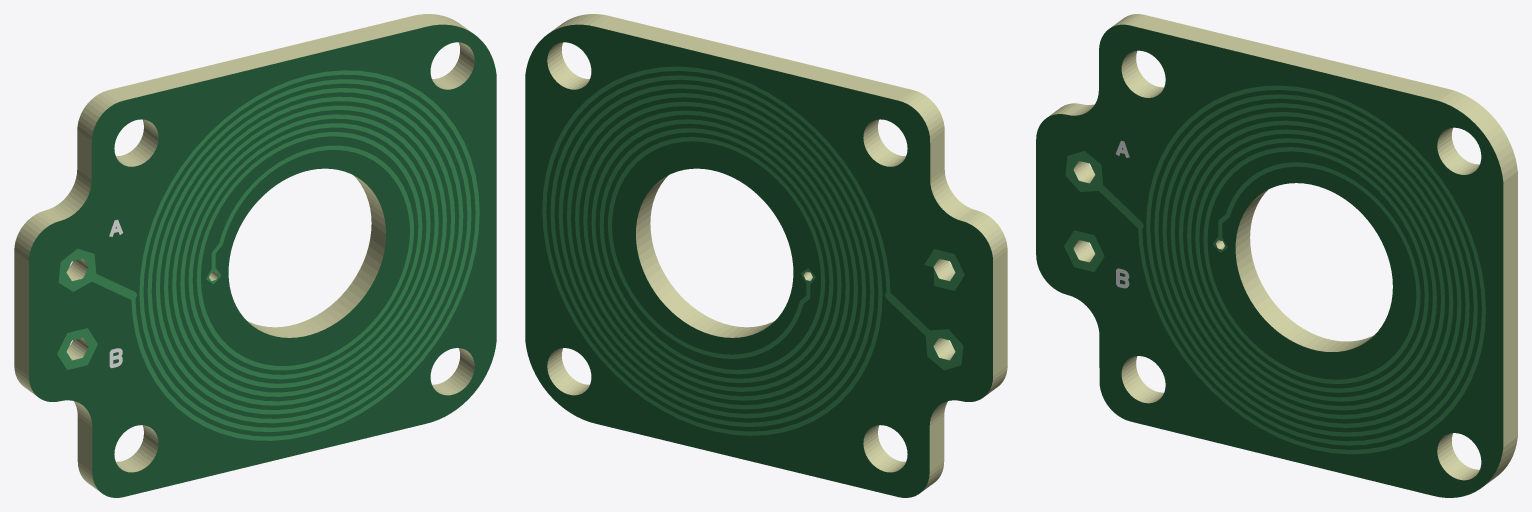
Rendered from coil.glb.
3 renders of one model, left to right at view 1: azimuth 30°, elevation 25°; view 2: azimuth 150°, elevation 25°; view 3: azimuth 330°, elevation 25°, orthographic.
Visible parts, largest first — view 1: Default-mtl4, Default-mtl2, Default-mtl3; view 2: Default-mtl4, Default-mtl2, Default-mtl3; view 3: Default-mtl4, Default-mtl2, Default-mtl3.
Part boxes in pixels (x1=…): Default-mtl4: x1=29, y1=24, x2=496, y2=497; Default-mtl2: x1=57, y1=70, x2=479, y2=440; Default-mtl3: x1=14, y1=14, x2=474, y2=492; Default-mtl4: x1=525, y1=24, x2=992, y2=497; Default-mtl2: x1=542, y1=66, x2=964, y2=435; Default-mtl3: x1=547, y1=14, x2=1007, y2=492; Default-mtl4: x1=1036, y1=24, x2=1503, y2=497; Default-mtl2: x1=1064, y1=85, x2=1485, y2=454; Default-mtl3: x1=1048, y1=14, x2=1517, y2=486.
Bounding box in the file's own units: 0.1485 × 0.1204 × 0.0083.
